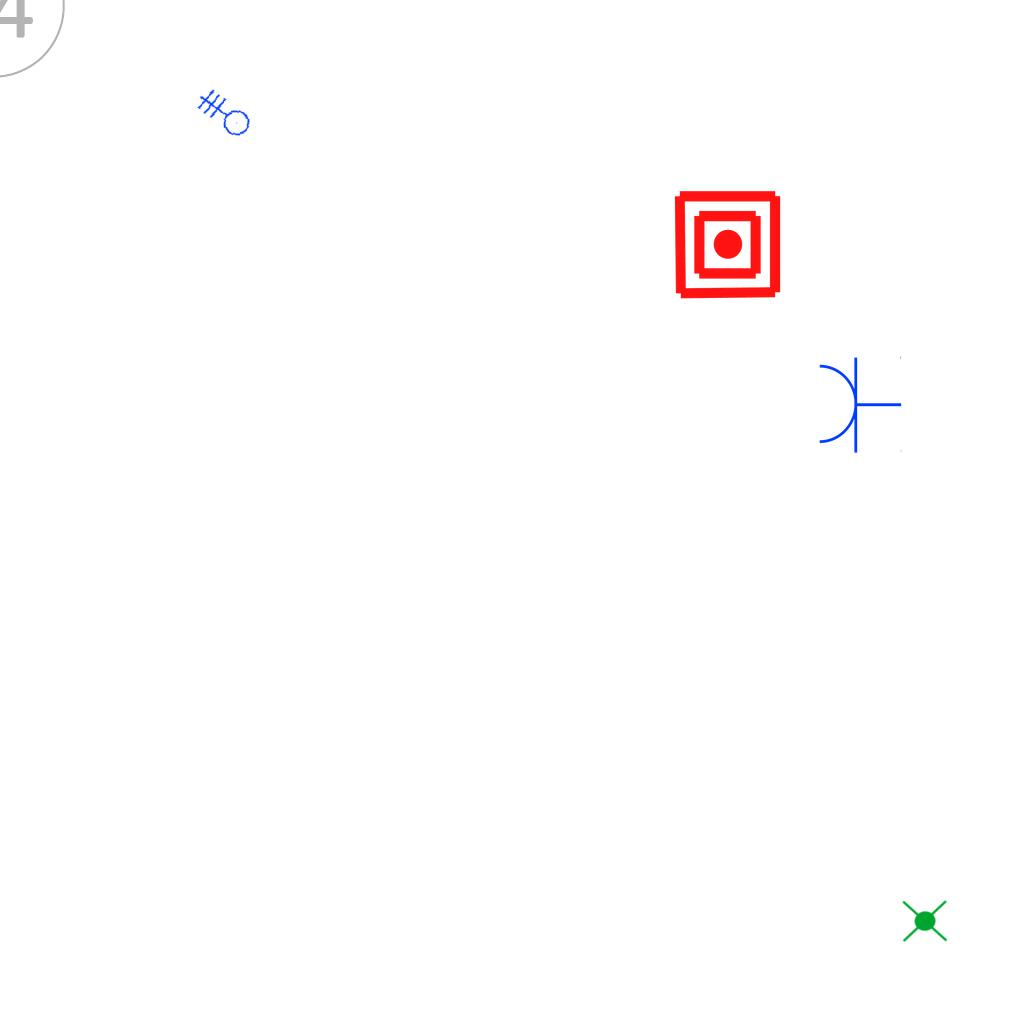Elektroanschluss_allgemein_400V_Geraeteanschlussdose_400V: (189, 84, 253, 150)
NAM-Nichtautomatischer_Melder: (671, 188, 784, 301)
Notlichtbaustein_in_Allgemeinbeleuchtug_engebaut_Einbau_(1UG_und_2UG_Aufbauvaria: (900, 895, 950, 946)
Schukosteckdose_einfach: (815, 354, 902, 454)
